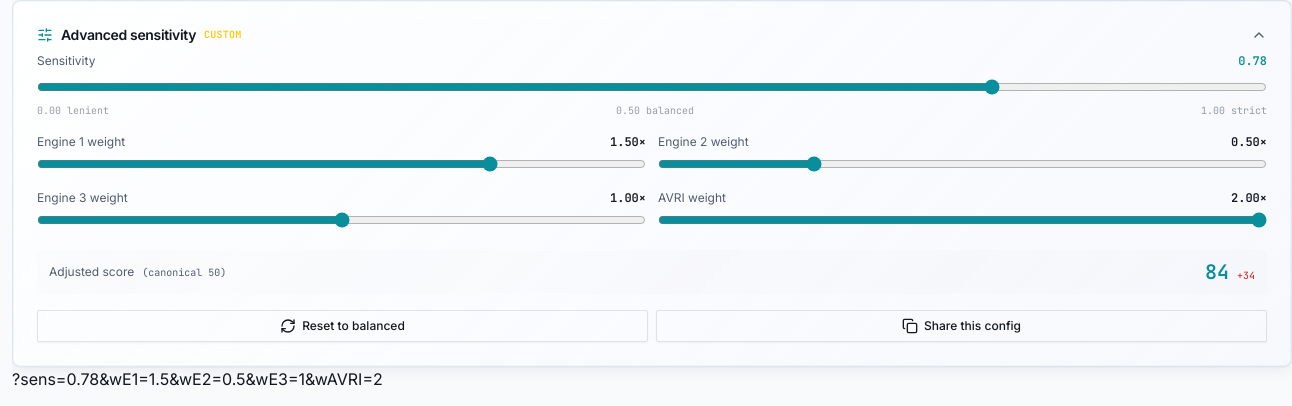
Test: AdvancedSensitivityPanel › writes the slider value into the URL query string when changed
Set the slider with test id "sensitivity-slider" to "0.42" at x=555, y=87, box [37,79,1267,95]
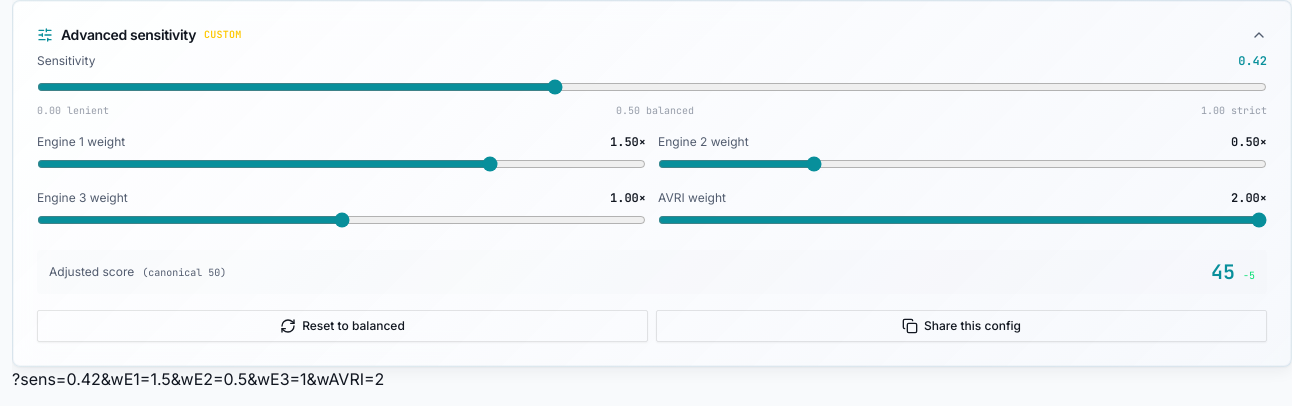
Now the text with test id "location-search" shows "sens=0.42", box [12,369,384,389]
Now the text with test id "sensitivity-value" reads "0.42", box [1238,53,1267,69]
